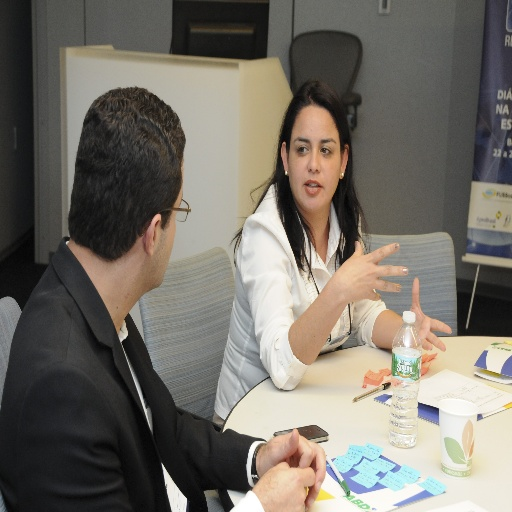hand: (333, 237, 409, 303), (405, 278, 452, 353), (252, 457, 317, 511)
